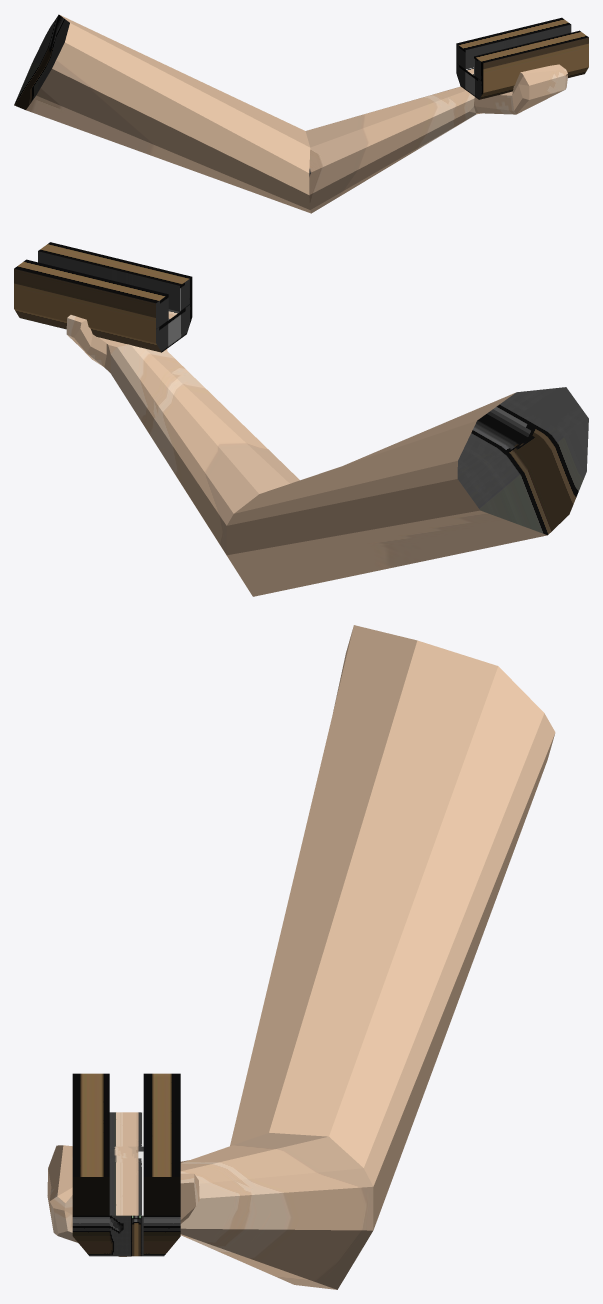
Rendered from ShotGunHandTextured.fbx.
3 renders of one model, top to bottom at view 1: azimuth 30°, elevation 25°; view 2: azimuth 150°, elevation 25°; view 3: azimuth 270°, elevation 25°, orthographic. The views are drawn at different scales.
Visible parts, largest first — view 1: Cube; view 2: Cube; view 3: Cube.
Boxes of the visible parts, x1=… form: Cube: x1=14, y1=14, x2=588, y2=213; Cube: x1=14, y1=242, x2=588, y2=596; Cube: x1=47, y1=625, x2=555, y2=1289.
Bounding box in the file's own units: 3064 × 1351 × 1417.
Materials: 1 (1 with a texture image).
